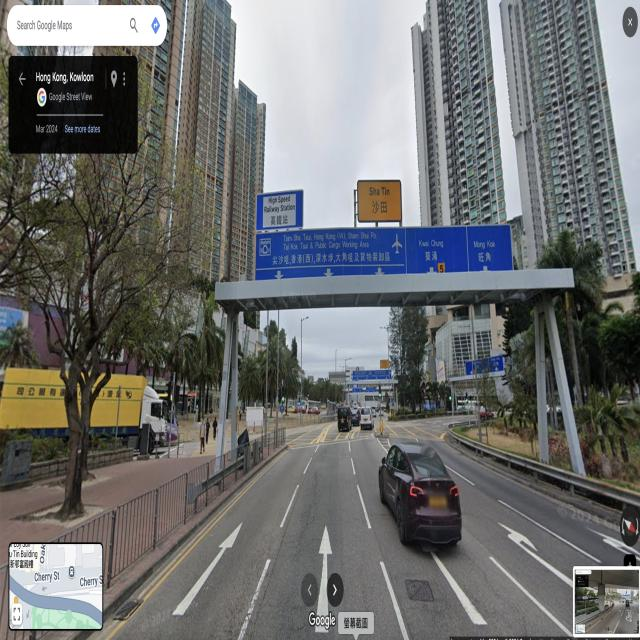Direction-Sign: (256, 225, 513, 281), (256, 189, 304, 232), (353, 370, 391, 380), (489, 357, 504, 373), (366, 387, 377, 391), (352, 388, 362, 392)
